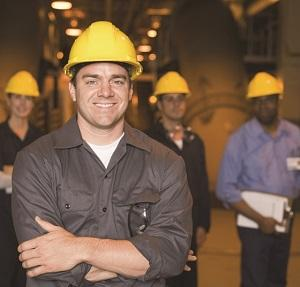helmet: (66, 22, 144, 79), (245, 71, 286, 100), (154, 71, 192, 98), (6, 71, 42, 99)
